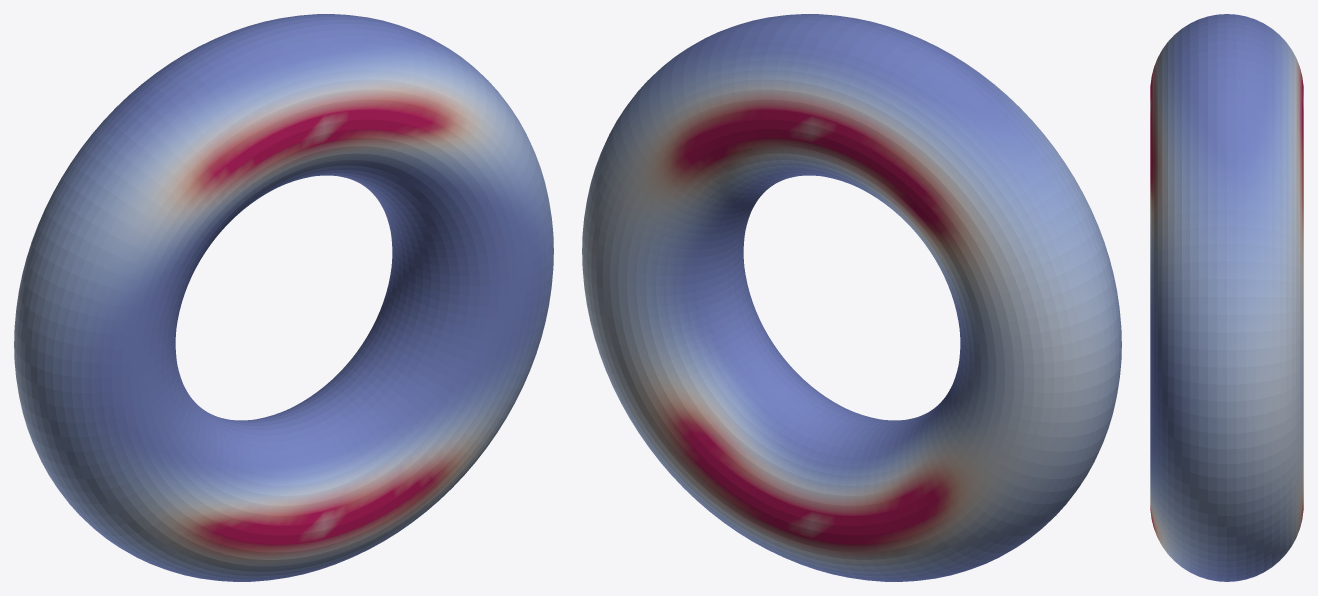
3 views of the same model, side by side, from view 1: azimuth 30°, elevation 25°; view 2: azimuth 150°, elevation 25°; view 3: azimuth 270°, elevation 25° (orthographic). The views are drawn at different scales.
Parts seen in each view (by area): view 1: world; view 2: world; view 3: world.
Part boxes in pixels (bbox=[...]): world: bbox=[14, 14, 553, 581]; world: bbox=[582, 14, 1121, 581]; world: bbox=[1150, 14, 1303, 581].
Size of the model in its own units: 18.27 by 18.27 by 4.92.
